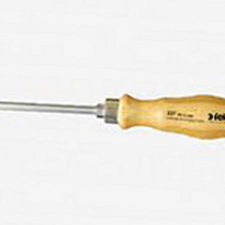Screwdriver: (1, 87, 225, 144)
